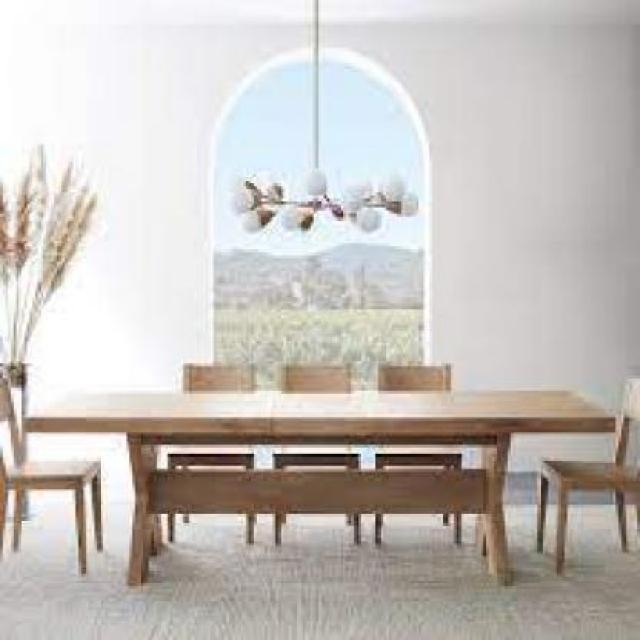tables: (21, 388, 622, 586)
